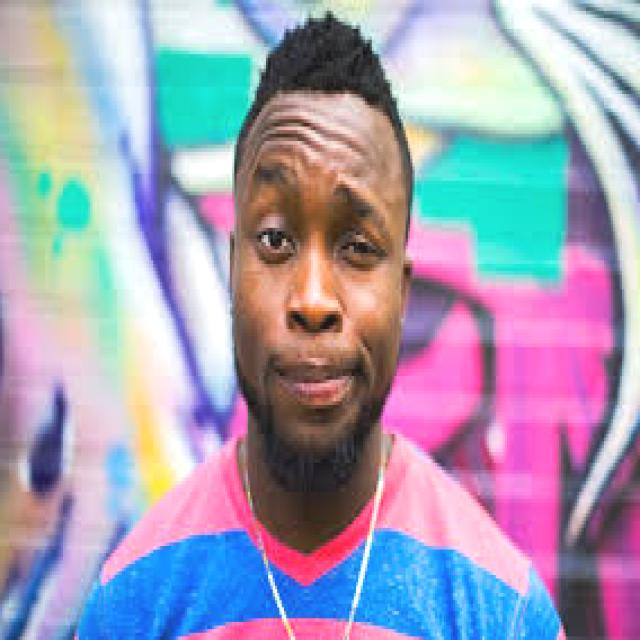normal_face: (230, 86, 407, 478)
